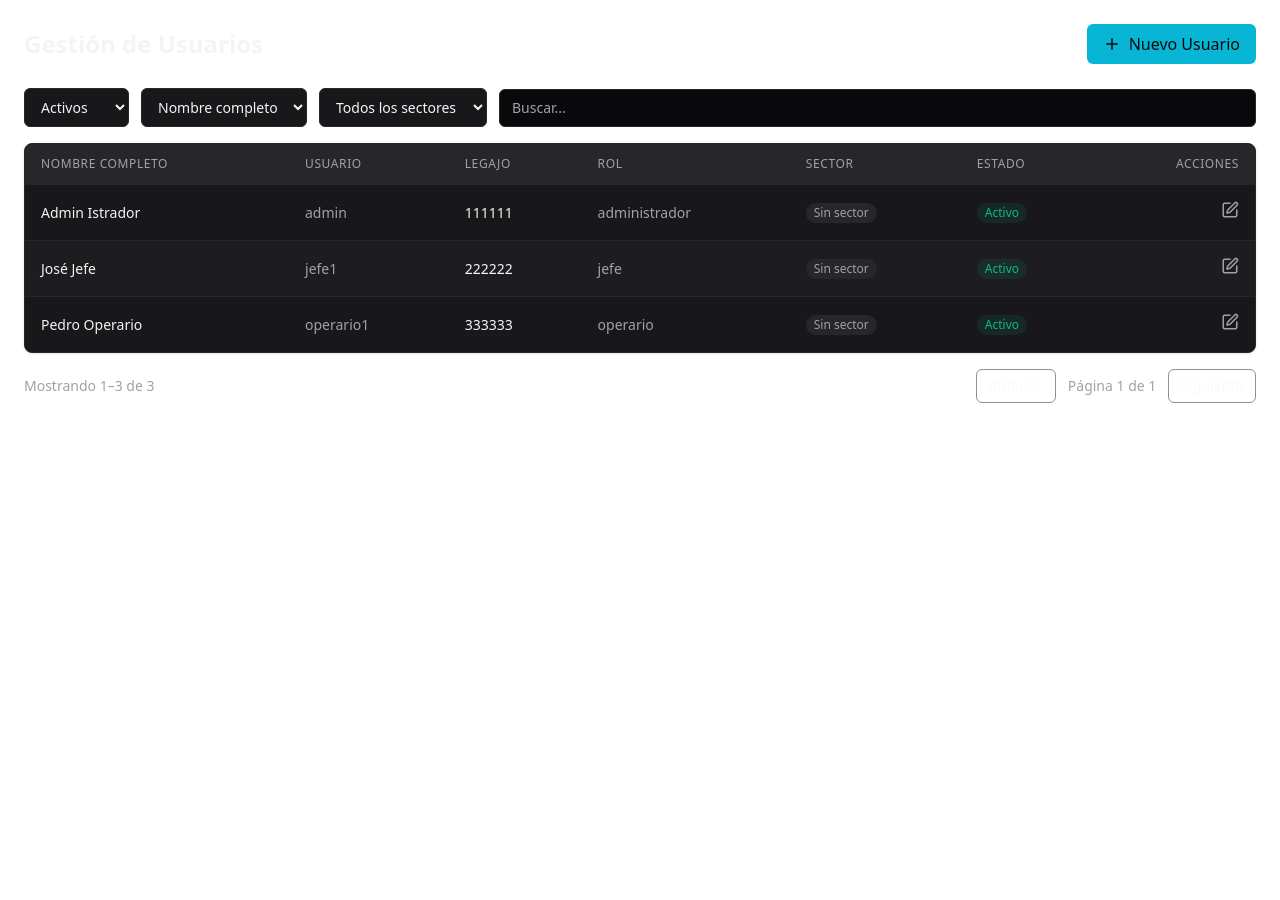
UsuariosPage › validation errors from the API › marks the Sector select when the API rejects datosAdicionales.sector
Click the button titled "Editar" in the row of "Admin Istrador". click: (1230, 210)
box: left=1221, top=201, right=1239, bottom=219
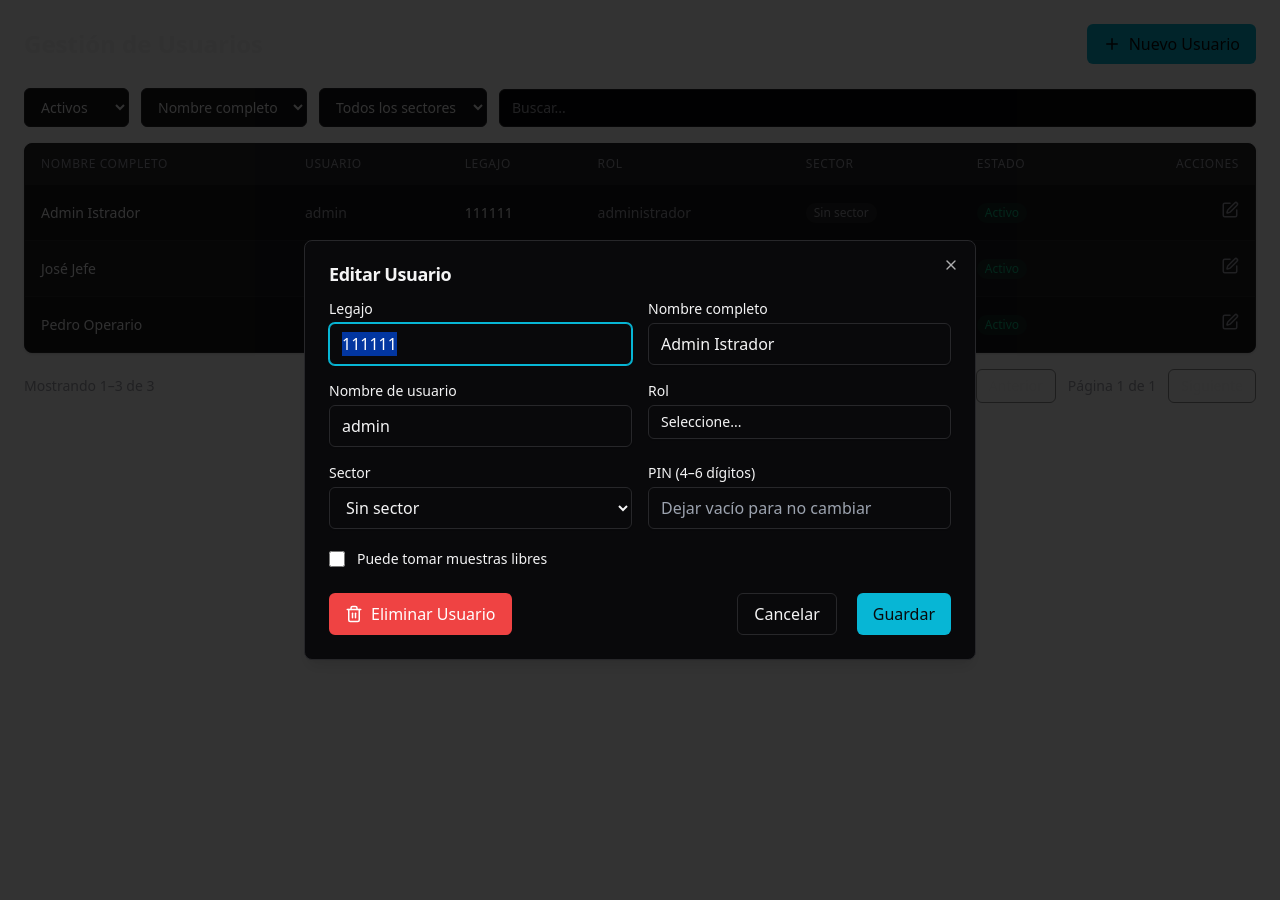
Click the button "Guardar". click: (904, 614)
box: left=857, top=593, right=951, bottom=635
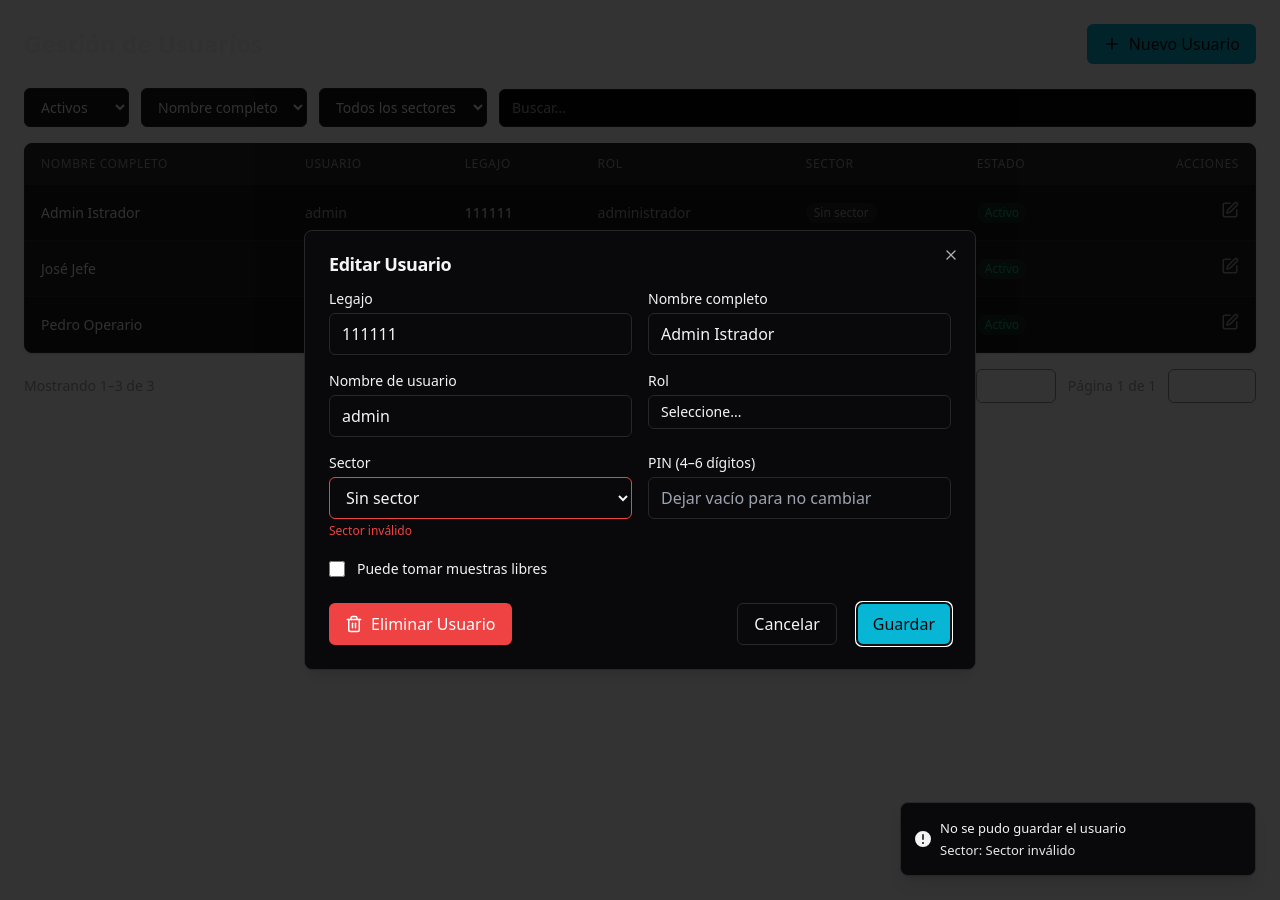
Expected: the list item "Sector: Sector inválido" is shown, left=940, top=841, right=1075, bottom=859
